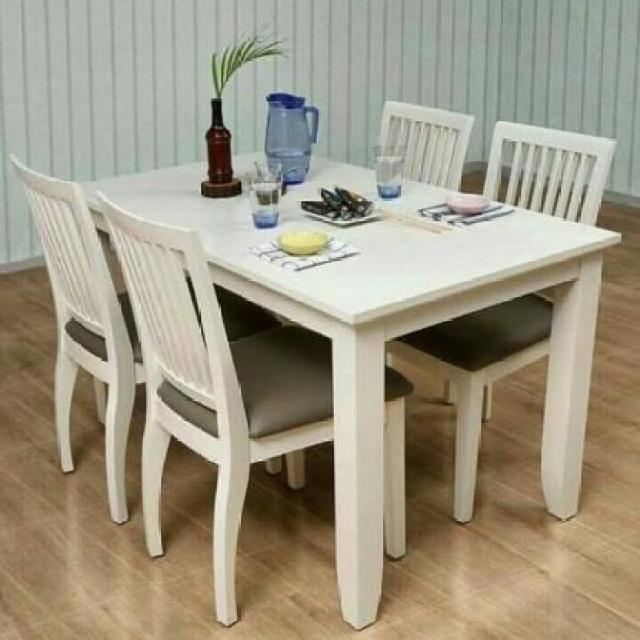tables: (74, 148, 620, 629)
